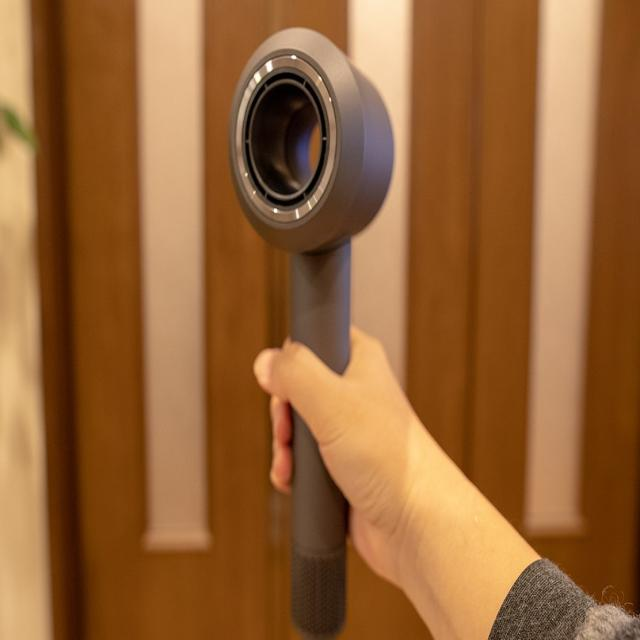dryer: (226, 26, 396, 640)
